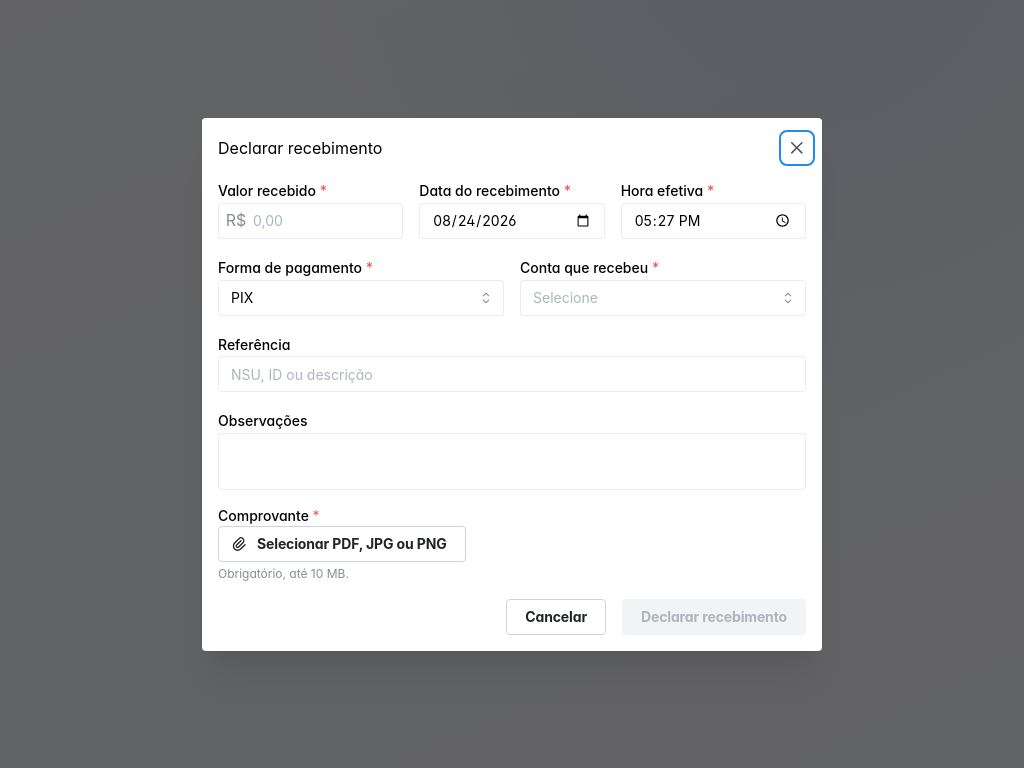
Test: ReceiptCreateModal — valor › não deixa declarar valor zerado, que a API recusaria
This screenshot has width=1024, height=768.
Step 1. Type "000" into the field labelled "Valor recebido *" → (311, 220), box [218,202,403,238]
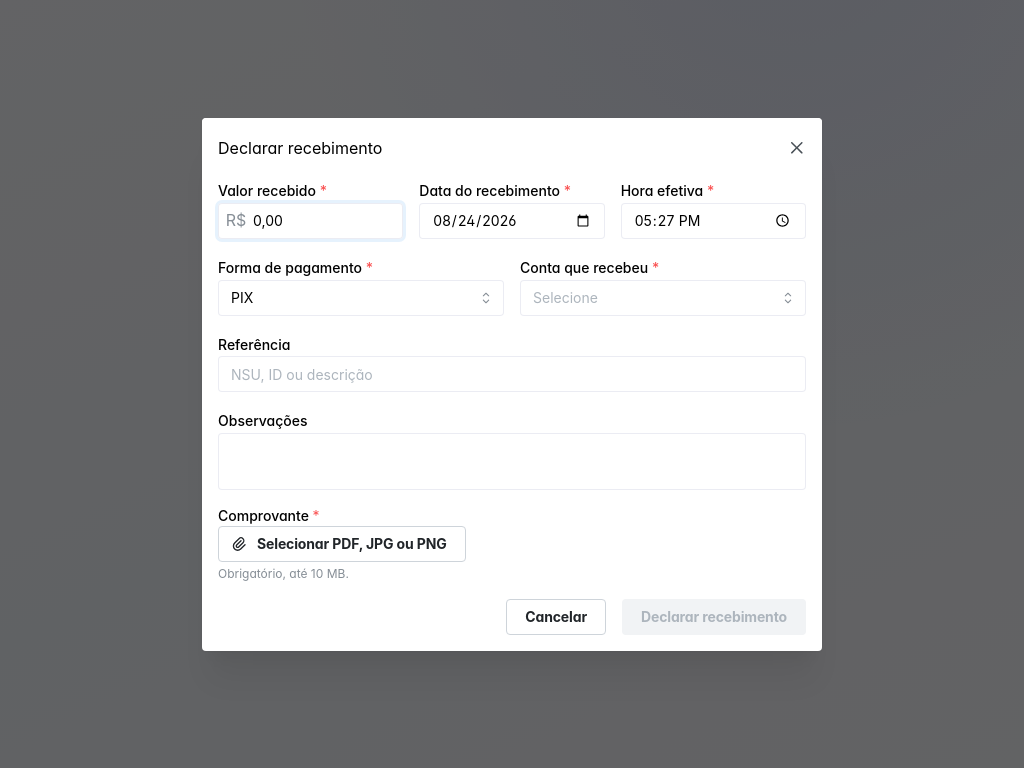
Expected: the button "Declarar recebimento" is disabled, [622,598,806,634]
Expected: the field labelled "Valor recebido *" holds "0,00", [218,202,403,238]
